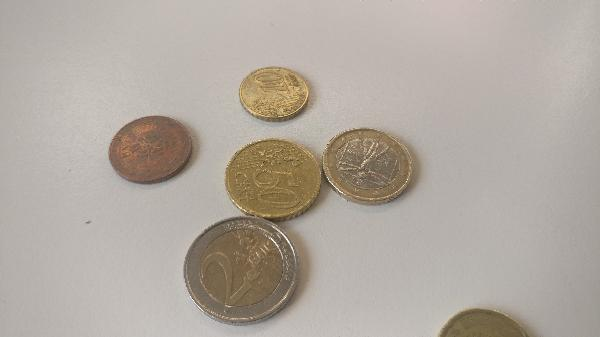Fifty Cent: (222, 138, 328, 222)
Five Cent: (107, 116, 190, 185)
One Euro: (323, 128, 415, 206)
Ten Cent: (236, 65, 316, 124)
Two Euro: (182, 214, 300, 322)
